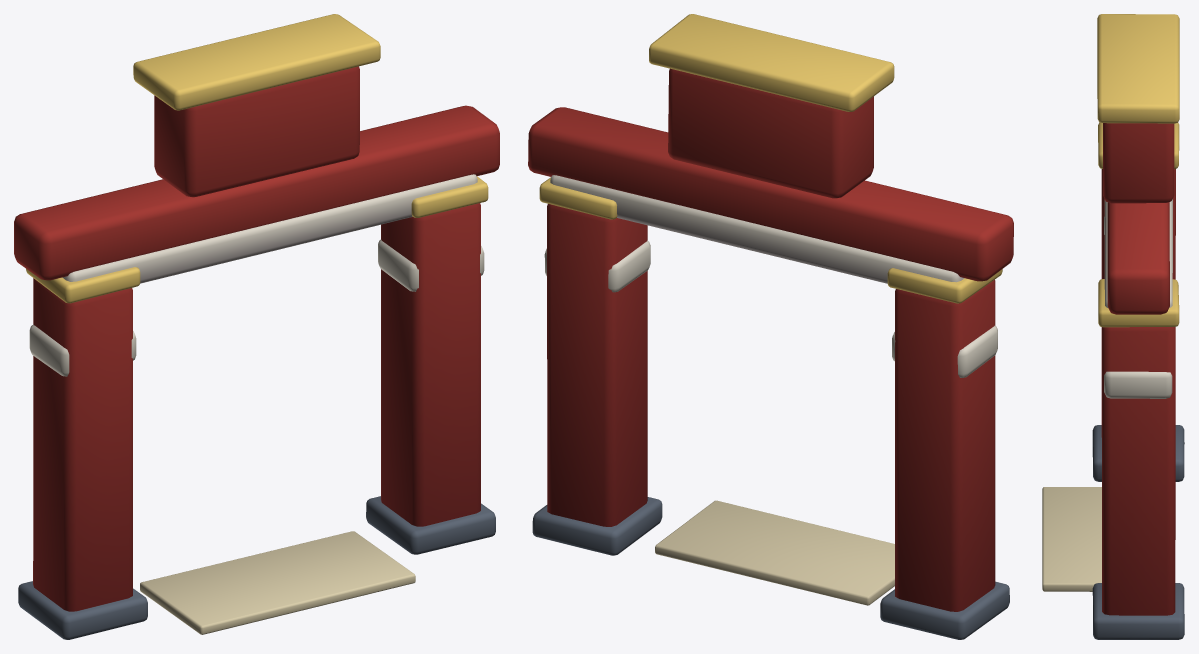
3 views of the same model, side by side, from view 1: azimuth 30°, elevation 25°; view 2: azimuth 150°, elevation 25°; view 3: azimuth 270°, elevation 25° (orthographic). The views are drawn at different scales.
Parts seen in each view (by area): view 1: gate_6860a5d2; view 2: gate_6860a5d2; view 3: gate_6860a5d2.
Boxes of the visible parts, x1,y1,x2,y2 form: gate_6860a5d2: [14, 14, 499, 639]; gate_6860a5d2: [528, 14, 1013, 639]; gate_6860a5d2: [1042, 14, 1184, 639].
Size of the model in its own units: 5.14 by 5.56 by 1.48.
